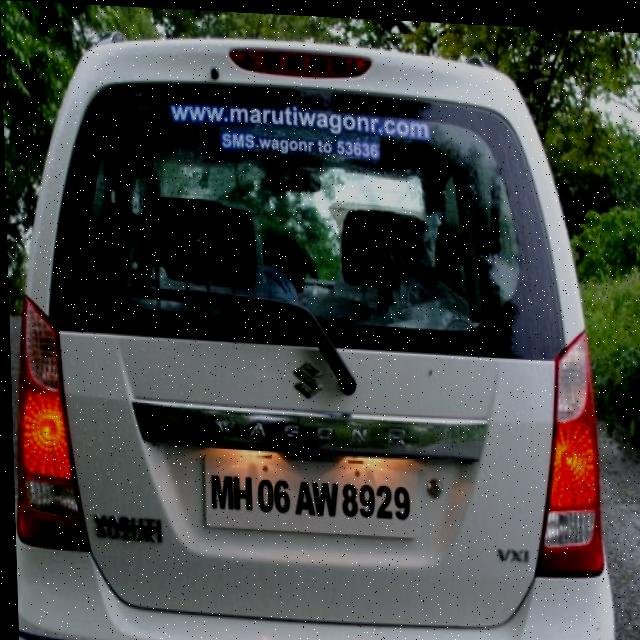plate: (195, 446, 415, 536)
